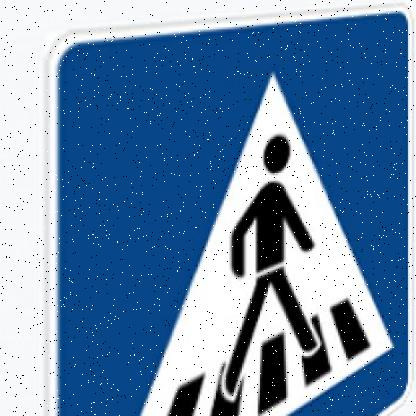Pedestrian Crossing: (24, 1, 416, 416)
